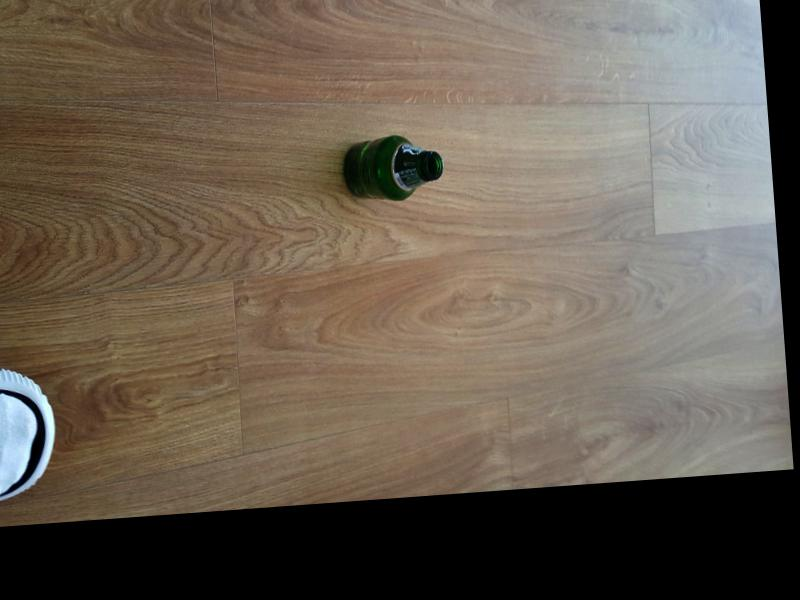Beer: (339, 134, 445, 209)
